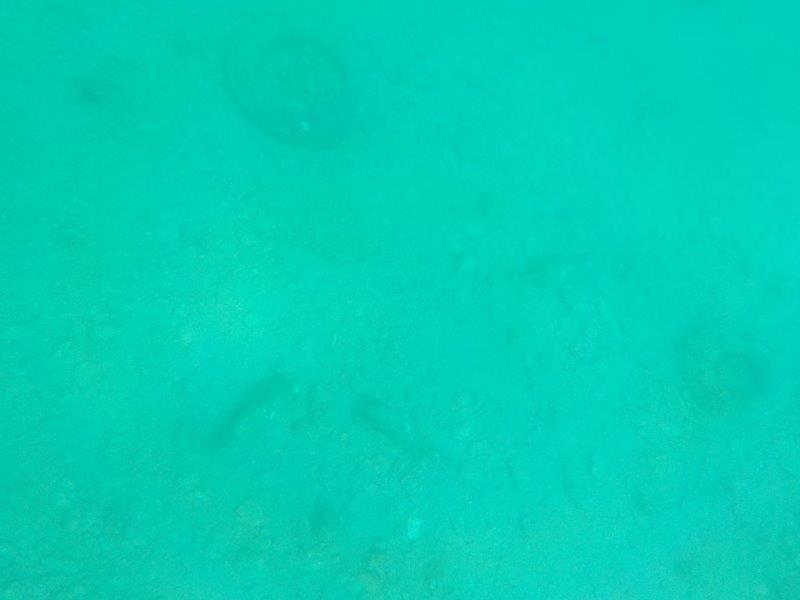bottle: (362, 393, 441, 468), (510, 252, 609, 297)
tire: (213, 12, 389, 158), (680, 316, 796, 432)
